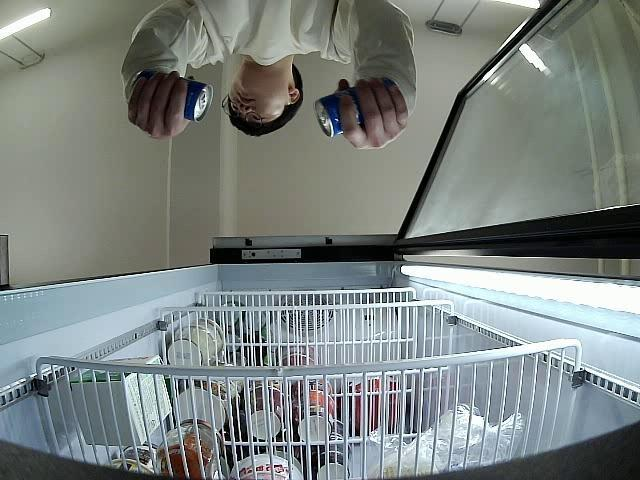15_letsbe: (315, 78, 406, 138), (129, 70, 213, 124)
